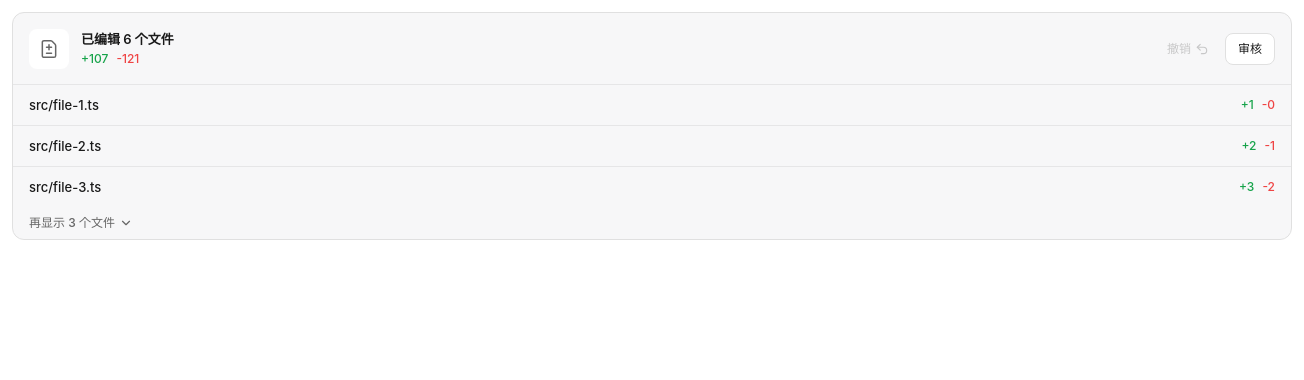
it: FileChangesCard › shows summary and expands files after the first three
Check: the text with test id "file-changes-summary-title" reads "已编辑 6 个文件", box [81,30,174,46]
Check: the element with test id "file-changes-card" shows "+107", box [12,12,1292,240]
Click the button with test id "toggle-file-changes-button".
click(72, 222)  # box [13,207,1291,239]
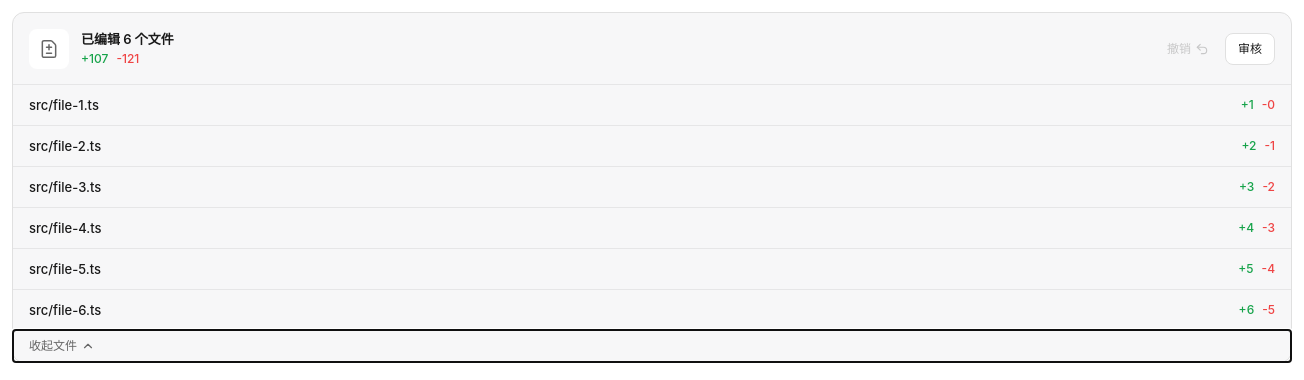
Check: the number of elements with test id "file-change-row" is 6, box [29,95,1275,115]; [13,125,1291,166]; [13,166,1291,207]; [13,207,1291,248]; [13,248,1291,289]; [13,289,1291,330]
Check: the button with test id "toggle-file-changes-button" reads "收起文件", box [13,330,1291,362]
